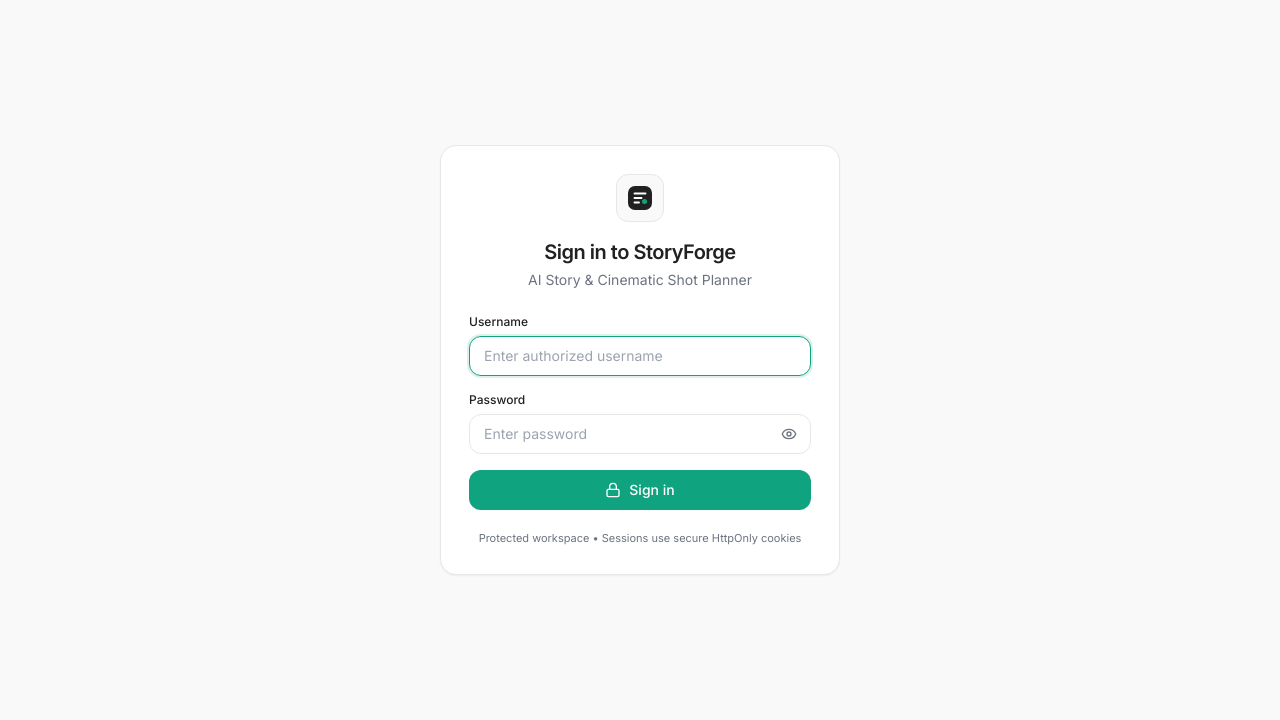
Test: Frontend MongoDB Authentication Gate › shows LoginPage when unauthenticated, handles invalid & valid login with HttpOnly cookies, restores on refresh, and logs out
Later steps or results of the test are not shown.
Check: the heading "Sign in to StoryForge" is shown, box [544,238,736,266]
Type "studio_director" into the field labelled "Username".
click(640, 356); type("studio_director")  # box [469,336,811,376]
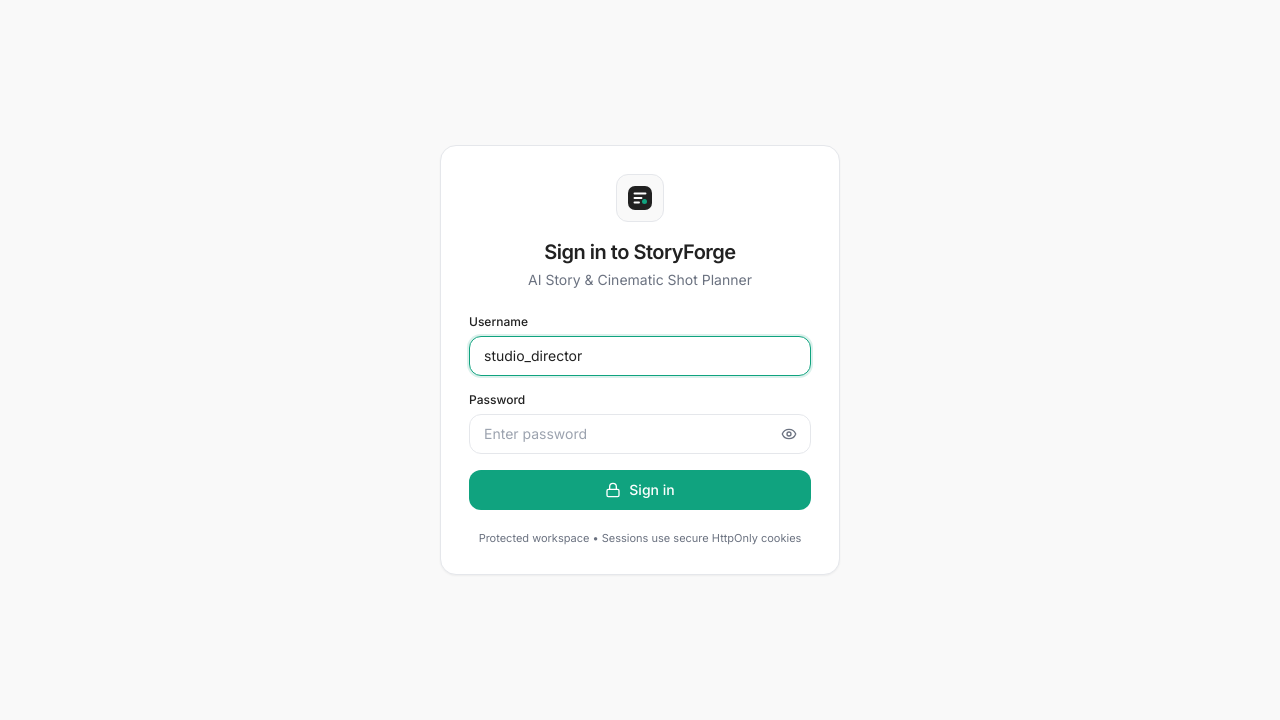
Type "WrongPassword" into the password field labelled "Password".
click(640, 434); type("WrongPassword")  # box [469,414,811,454]
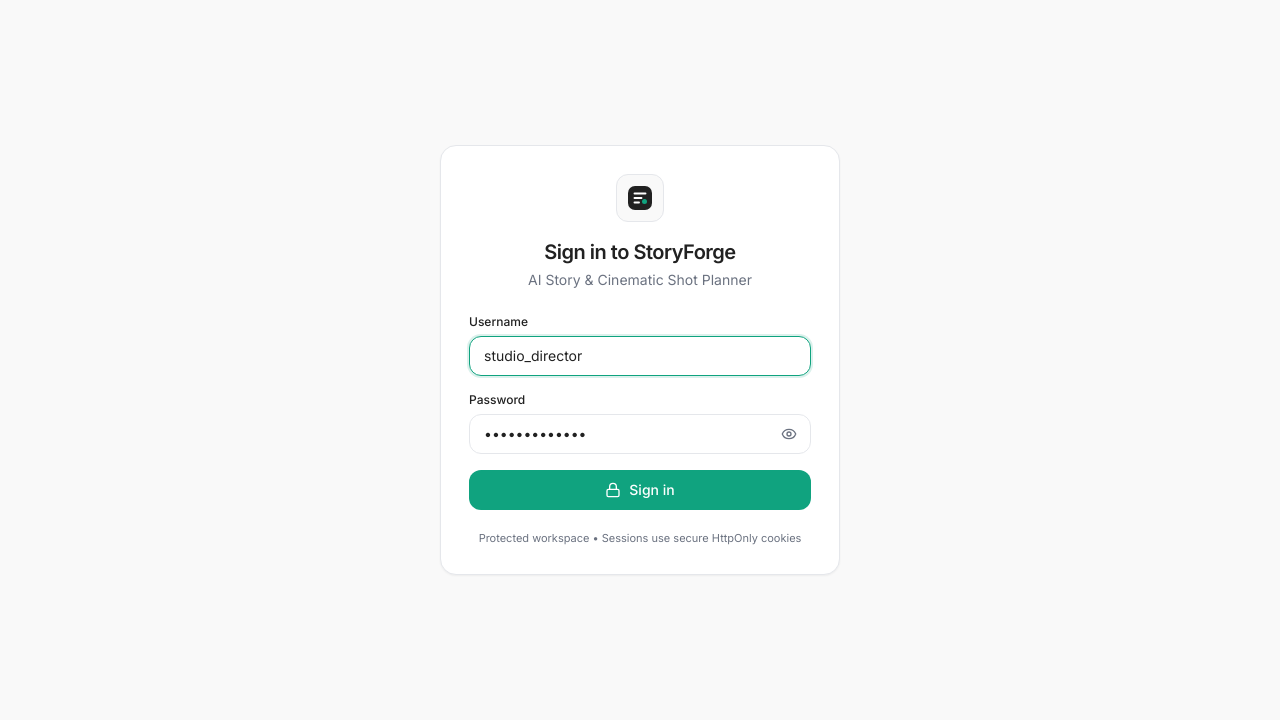
Click the button "Sign in".
click(640, 490)  # box [469,470,811,510]
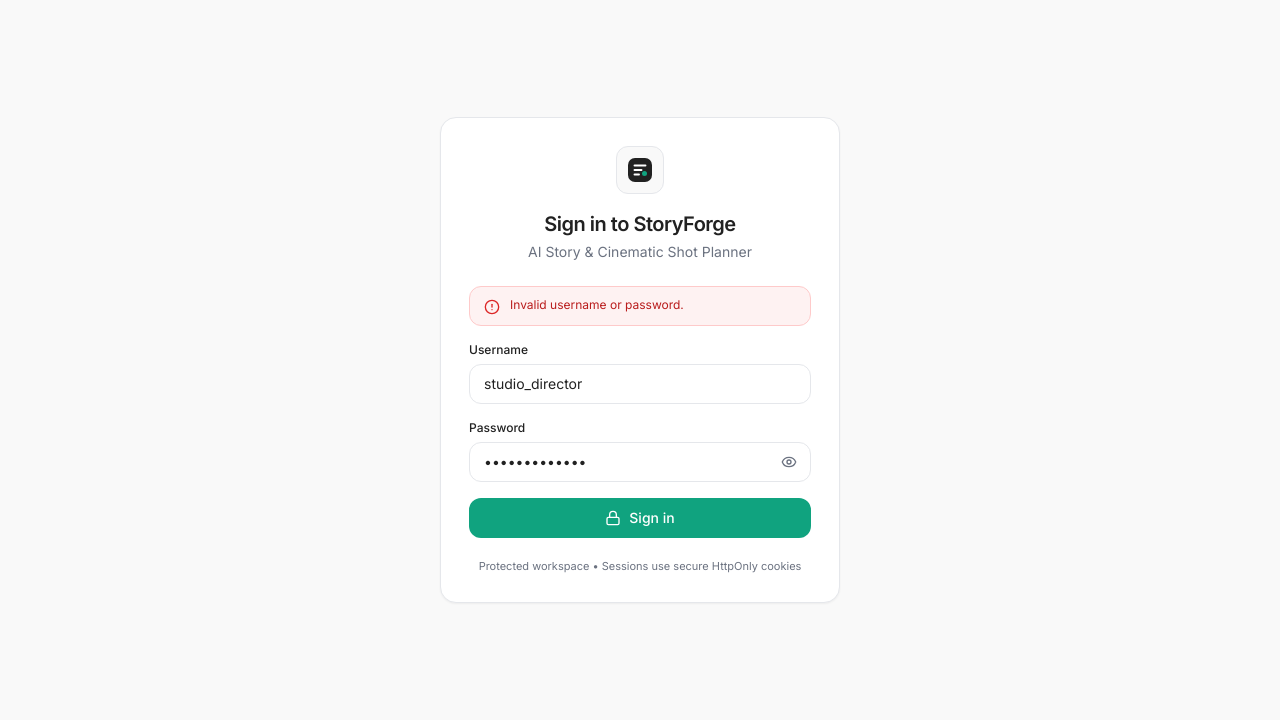
Check: the message reads "Invalid username or password.", box [510,297,684,312]
Type "CorrectPass!2026" into the password field labelled "Password".
click(640, 462); type("CorrectPass!2026")  # box [469,442,811,482]
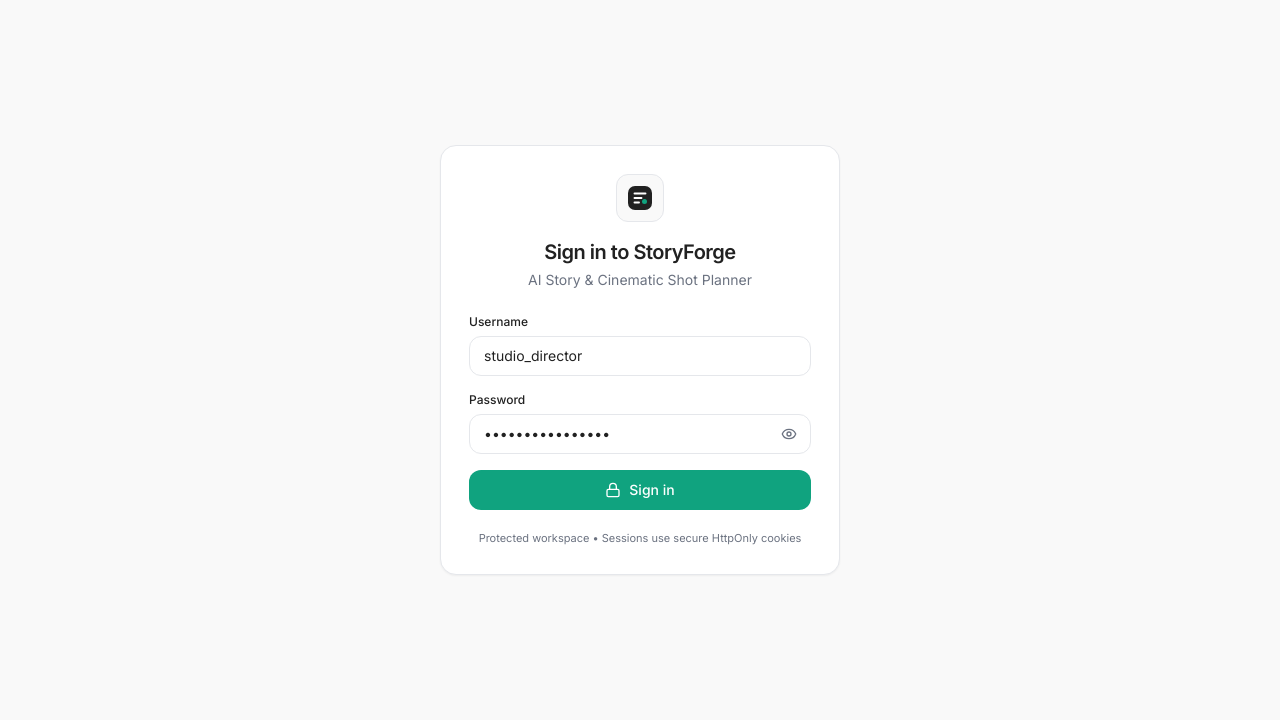
Click the button "Sign in".
click(640, 490)  # box [469,470,811,510]
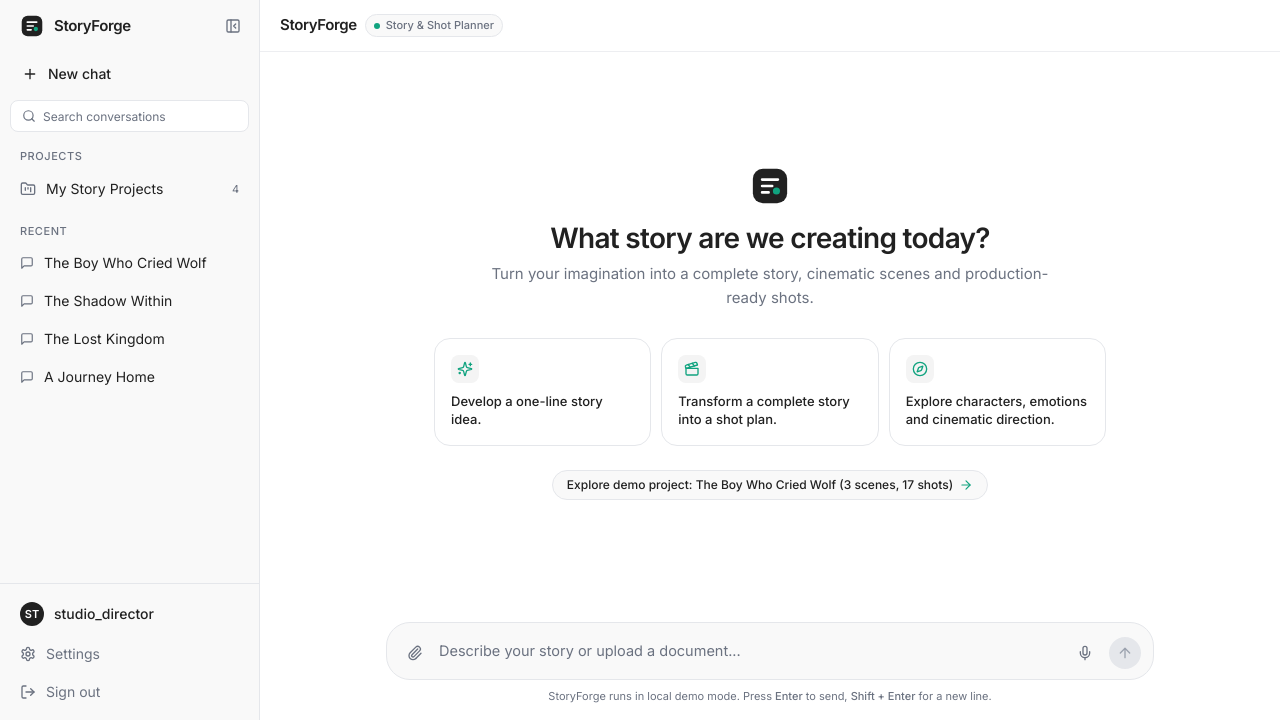
Check: the text box named "Message StoryForge" is shown, box [439,632,1061,668]
